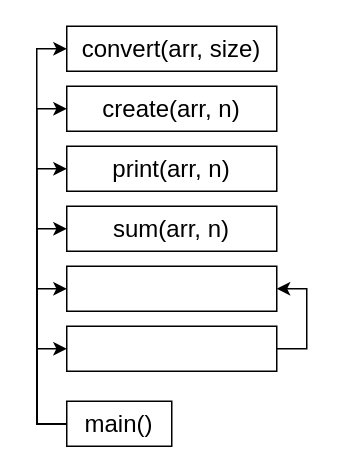
The diagram is 345 pixels wide and 473 high, and some of its shapes have lost their labels. The centre of each missing label's shape, as x and y in pixels:
avg(arr, n): the point at 171,288
replace(arr, n): the point at 171,348
